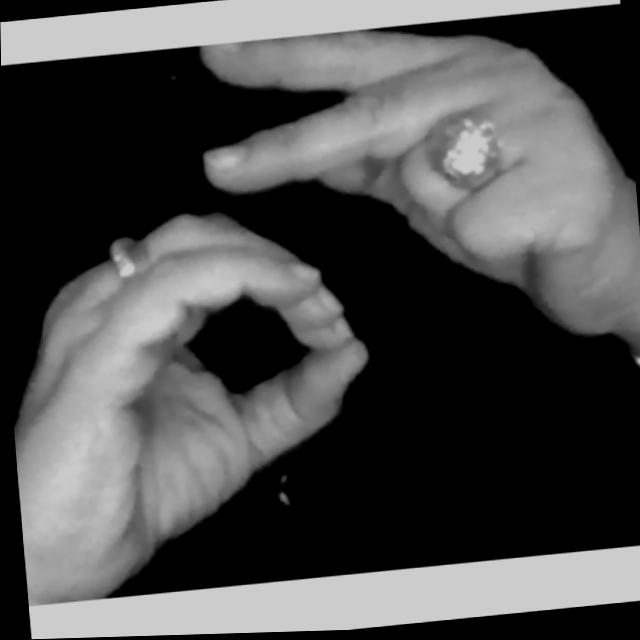O--: (0, 1, 640, 603)
